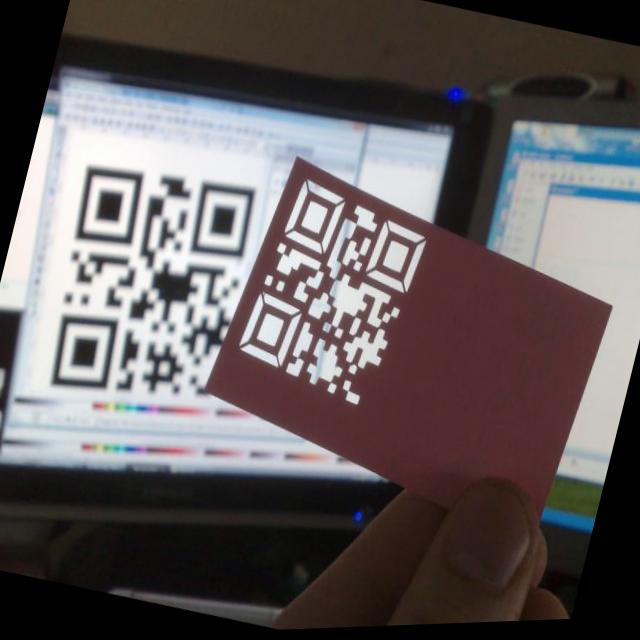qrcode: (36, 151, 262, 425), (230, 171, 437, 421)
